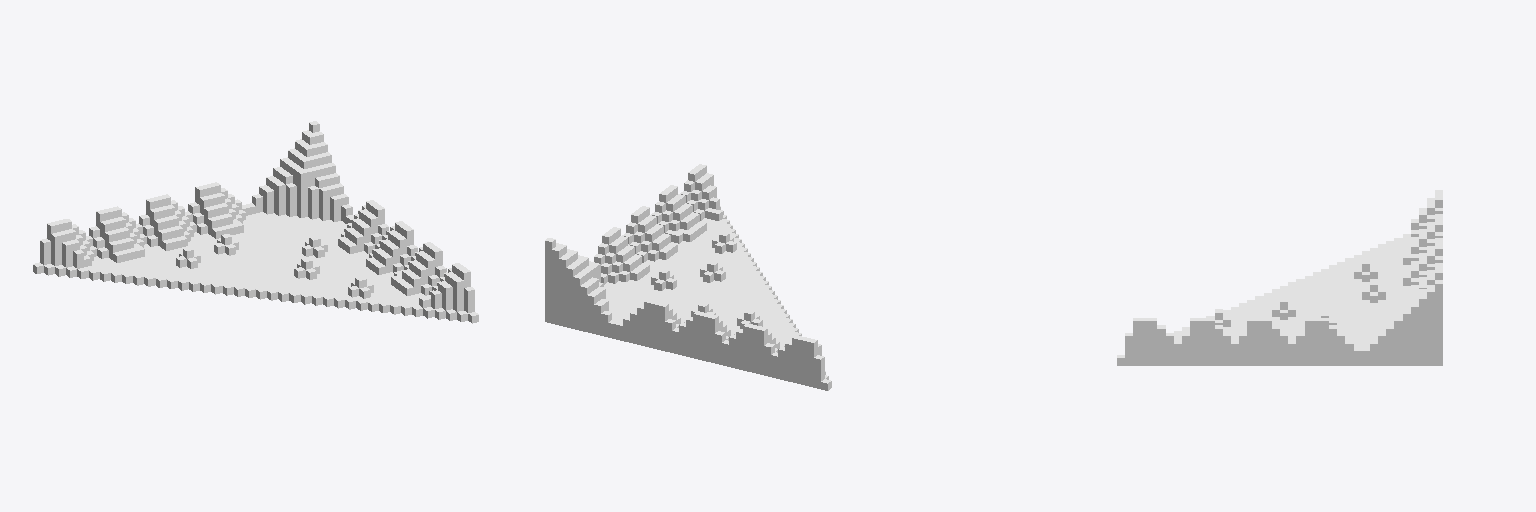
File: Freljord.obj
The picture shows the model from 3 angles: view 1: azimuth 30°, elevation 25°; view 2: azimuth 150°, elevation 25°; view 3: azimuth 270°, elevation 25°; orthographic projection.
Parts seen in each view (by area): view 1: object 1; view 2: object 1; view 3: object 1.
Boxes of the visible parts, box(x1,y1,x2,y2) form: object 1: box(33, 121, 478, 323); object 1: box(545, 164, 831, 390); object 1: box(1117, 190, 1442, 365).
Size of the model in its own units: 4 by 1.1 by 4.